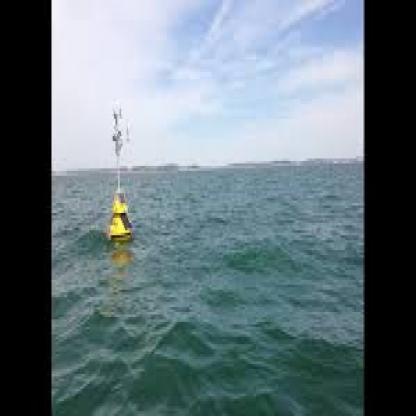buoy: (99, 99, 138, 250)
